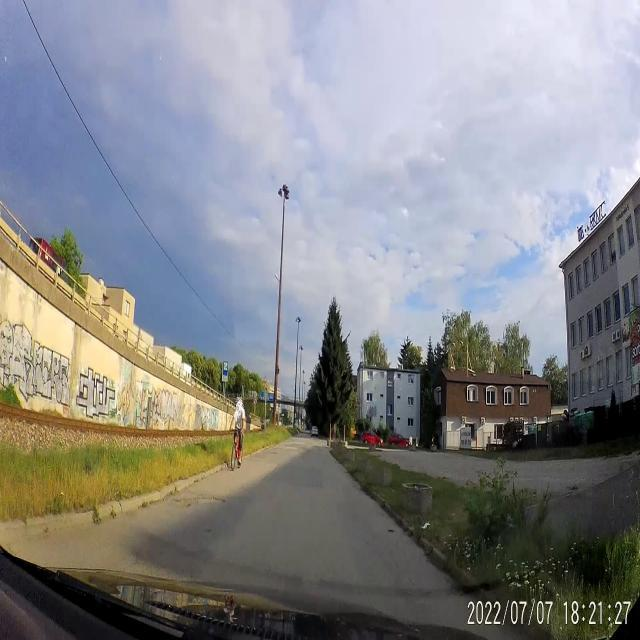Pothole: (167, 491, 226, 513)
